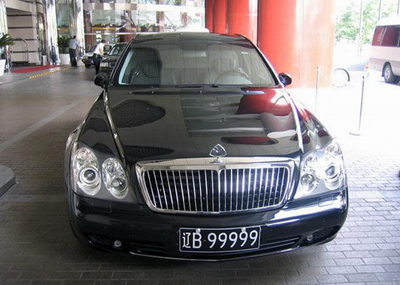plate_number: (178, 227, 261, 253)
